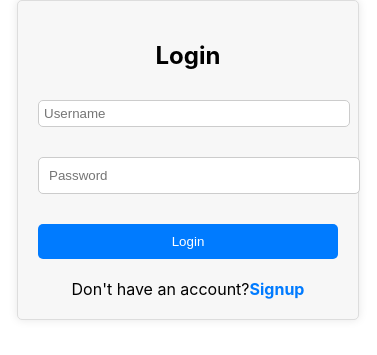
login_component › should_validate_password_length_when_entering_a_password
The width and height of the screenshot is (377, 355).
Type "123" into the password field with placeholder "Password" at (199, 175), box [38,157,360,194]
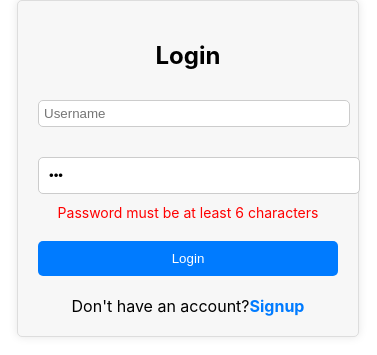
Now the text "Password must be at least 6 characters" is shown, box [38,204,338,221]
